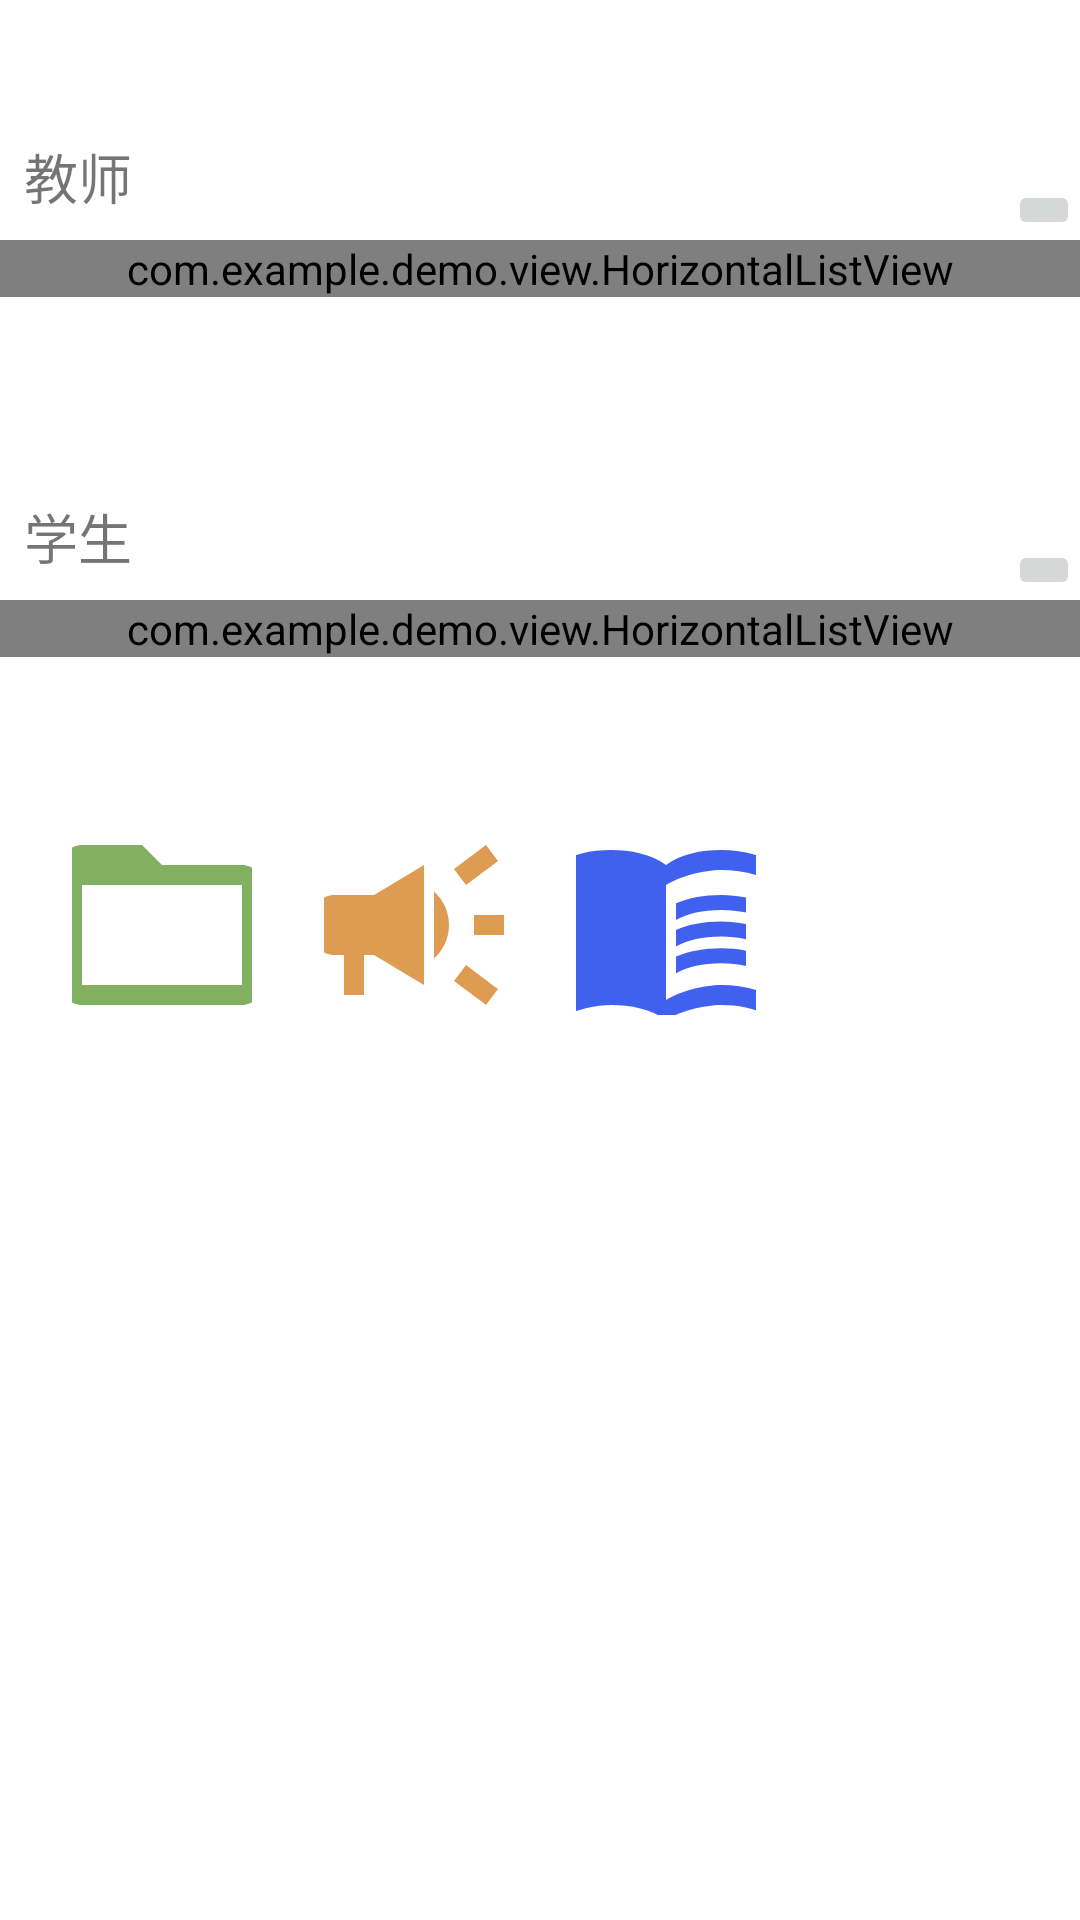

Where icons sit on this 1080x1920 app screen, as (x1, y1, x2, y2):
book: (576, 850, 756, 1015)
campaign: (324, 845, 504, 1005)
folder: (72, 845, 252, 1005)
